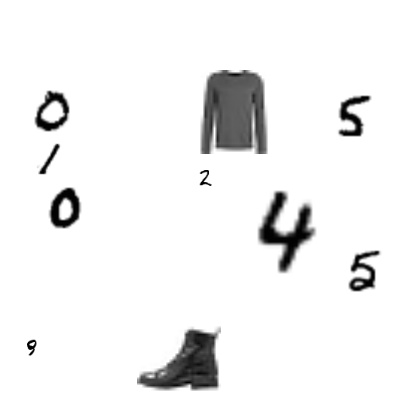0: (37, 180, 93, 236), (23, 83, 79, 139)
1: (28, 138, 70, 180)
2: (194, 167, 216, 189)
4: (227, 172, 339, 284)
5: (323, 88, 379, 144), (335, 243, 391, 299)
9: (20, 335, 42, 357)
Ankle_boot: (137, 315, 221, 399)
Pullover: (192, 70, 276, 154)
